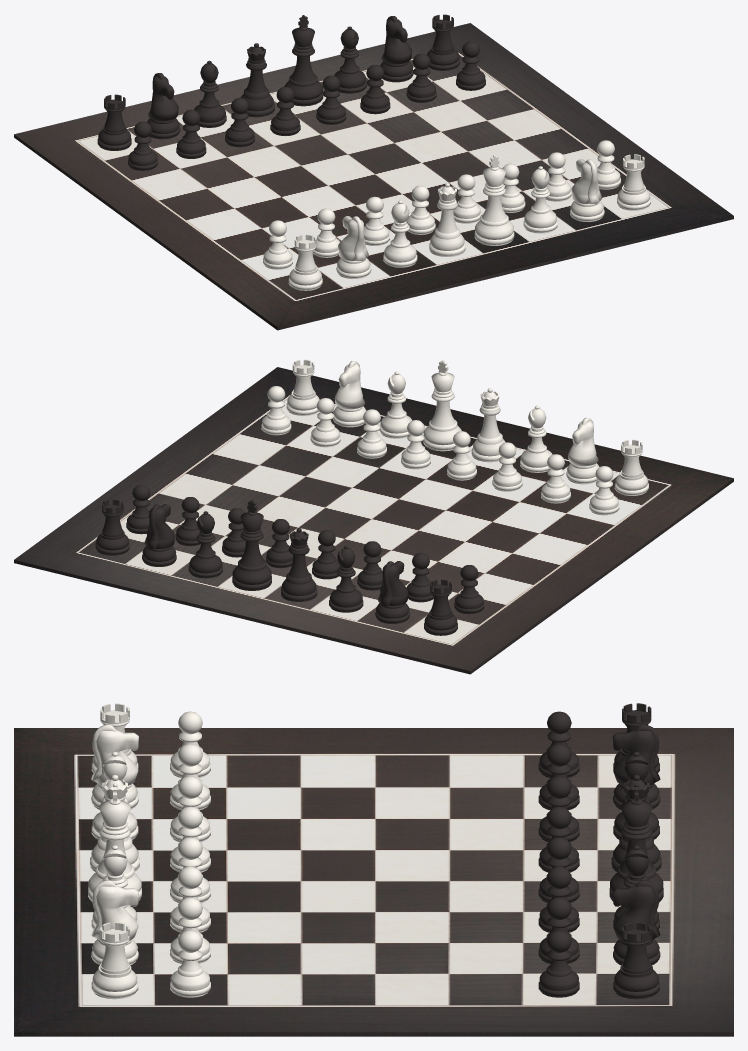
3 renders of one model, top to bottom at view 1: azimuth 30°, elevation 25°; view 2: azimuth 150°, elevation 25°; view 3: azimuth 270°, elevation 25°, orthographic. The views are drawn at different scales.
Visible parts, largest first — view 1: Plane002, King_White_0, King001_Black_0, Queen_White_0, Knight001_White_0, Knight_White_0, Knight003_Black_0, Knight002_Black_0, Queen001_Black_0, Bishop001_White_0, Bishop_White_0, Rook001_White_0 (+21 smaller); view 2: Plane002, King001_Black_0, King_White_0, Queen001_Black_0, Knight002_Black_0, Knight003_Black_0, Knight001_White_0, Knight_White_0, Queen_White_0, Bishop003_Black_0, Bishop002_Black_0, Rook002_Black_0 (+21 smaller); view 3: Plane002, Rook002_Black_0, Rook_White_0, Knight003_Black_0, Knight001_White_0, Knight002_Black_0, Knight_White_0, King_White_0, King001_Black_0, Pawn015_Black_0, Pawn007_White_0, Queen001_Black_0 (+21 smaller).
Boxes of the visible parts, <box> form: Plane002: <box>14,23,733,330</box>; King_White_0: <box>474,155,514,245</box>; King001_Black_0: <box>284,15,323,106</box>; Queen_White_0: <box>429,183,465,256</box>; Knight001_White_0: <box>570,159,604,221</box>; Knight_White_0: <box>336,216,371,278</box>; Knight003_Black_0: <box>380,16,413,82</box>; Knight002_Black_0: <box>147,73,180,139</box>; Queen001_Black_0: <box>240,43,274,117</box>; Bishop001_White_0: <box>383,200,417,267</box>; Bishop_White_0: <box>523,166,557,233</box>; Rook001_White_0: <box>288,234,322,290</box>; Plane002: <box>14,367,733,674</box>; King001_Black_0: <box>232,500,271,590</box>; King_White_0: <box>423,360,461,451</box>; Queen001_Black_0: <box>281,528,317,601</box>; Knight002_Black_0: <box>375,561,409,623</box>; Knight003_Black_0: <box>142,504,176,566</box>; Knight001_White_0: <box>333,361,366,427</box>; Knight_White_0: <box>566,418,599,484</box>; Queen_White_0: <box>471,388,505,462</box>; Bishop003_Black_0: <box>329,545,363,612</box>; Bishop002_Black_0: <box>188,511,222,578</box>; Rook002_Black_0: <box>95,499,129,555</box>; Plane002: <box>14,728,733,1036</box>; Rook002_Black_0: <box>613,922,659,999</box>; Rook_White_0: <box>91,922,138,999</box>; Knight003_Black_0: <box>612,880,660,965</box>; Knight001_White_0: <box>91,880,138,965</box>; Knight002_Black_0: <box>612,724,660,809</box>; Knight_White_0: <box>91,724,138,809</box>; King_White_0: <box>88,783,141,905</box>; King001_Black_0: <box>609,783,663,905</box>; Pawn015_Black_0: <box>538,930,579,997</box>; Pawn007_White_0: <box>170,930,210,997</box>; Queen001_Black_0: <box>611,775,661,871</box>.
Size of the model in its own units: 457 by 82.67 by 457.
3 materials, 1 textured.
